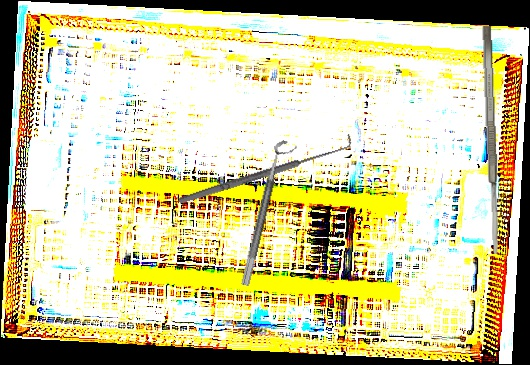Fixation Ring: (240, 138, 298, 290)
Hook Surgical: (174, 133, 356, 208)
Spatula Surgical: (481, 25, 501, 255)
